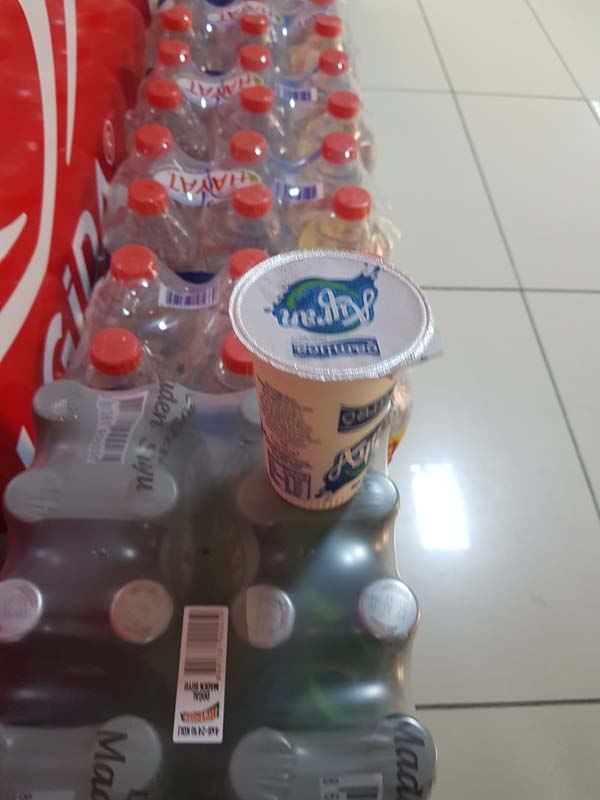camlicaayran: (222, 246, 437, 514)
